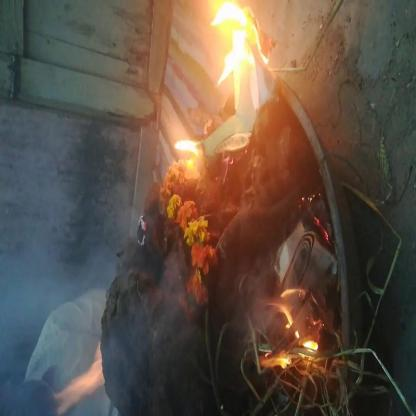fire: (198, 0, 278, 116), (252, 287, 333, 372), (171, 129, 209, 171)
other: (154, 174, 218, 314)
